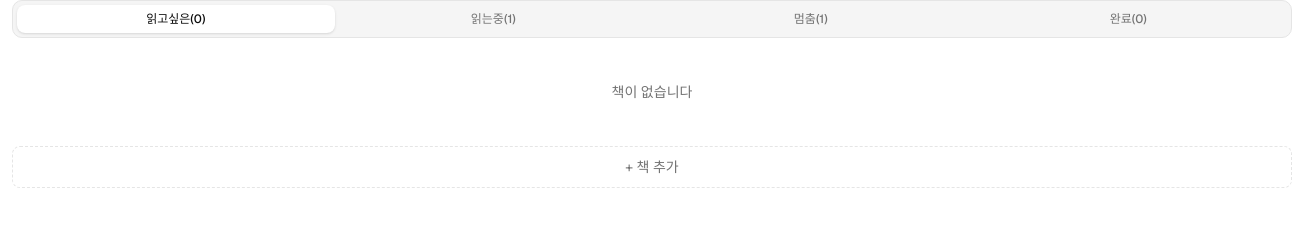
Scenario: MobileBoard › shows paused tab and mobile actions for reading and paused books
Expected: the button "멈춤(1)" is shown, [652,5,970,33]
Click the button "읽는중(1)" at x=493, y=19, box [334,5,652,33]
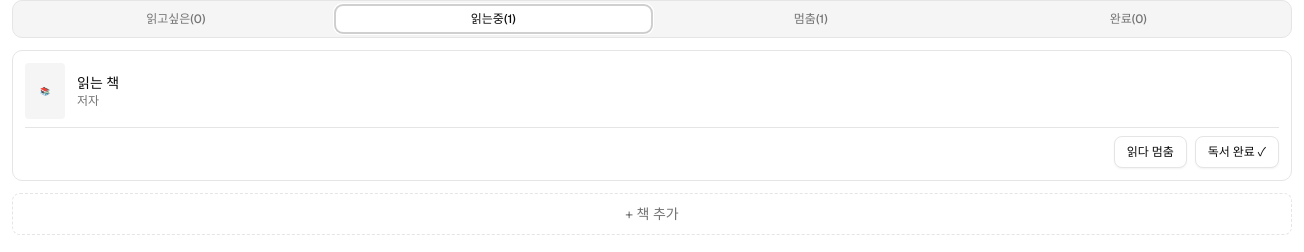
Expected: the text "읽는 책" is shown, [77,74,119,92]
Expected: the button "읽다 멈춤" is shown, [1114,136,1187,168]
Expected: the button "독서 완료 ✓" is shown, [1195,136,1279,168]
Click the button "멈춤(1)" at x=811, y=19, box [652,5,970,33]
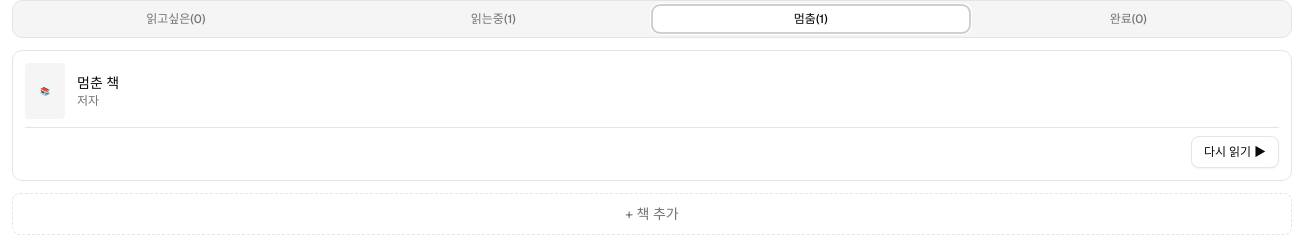
Expected: the text "멈춘 책" is shown, [77,74,119,92]
Expected: the button "다시 읽기 ▶" is shown, [1191,136,1279,168]
